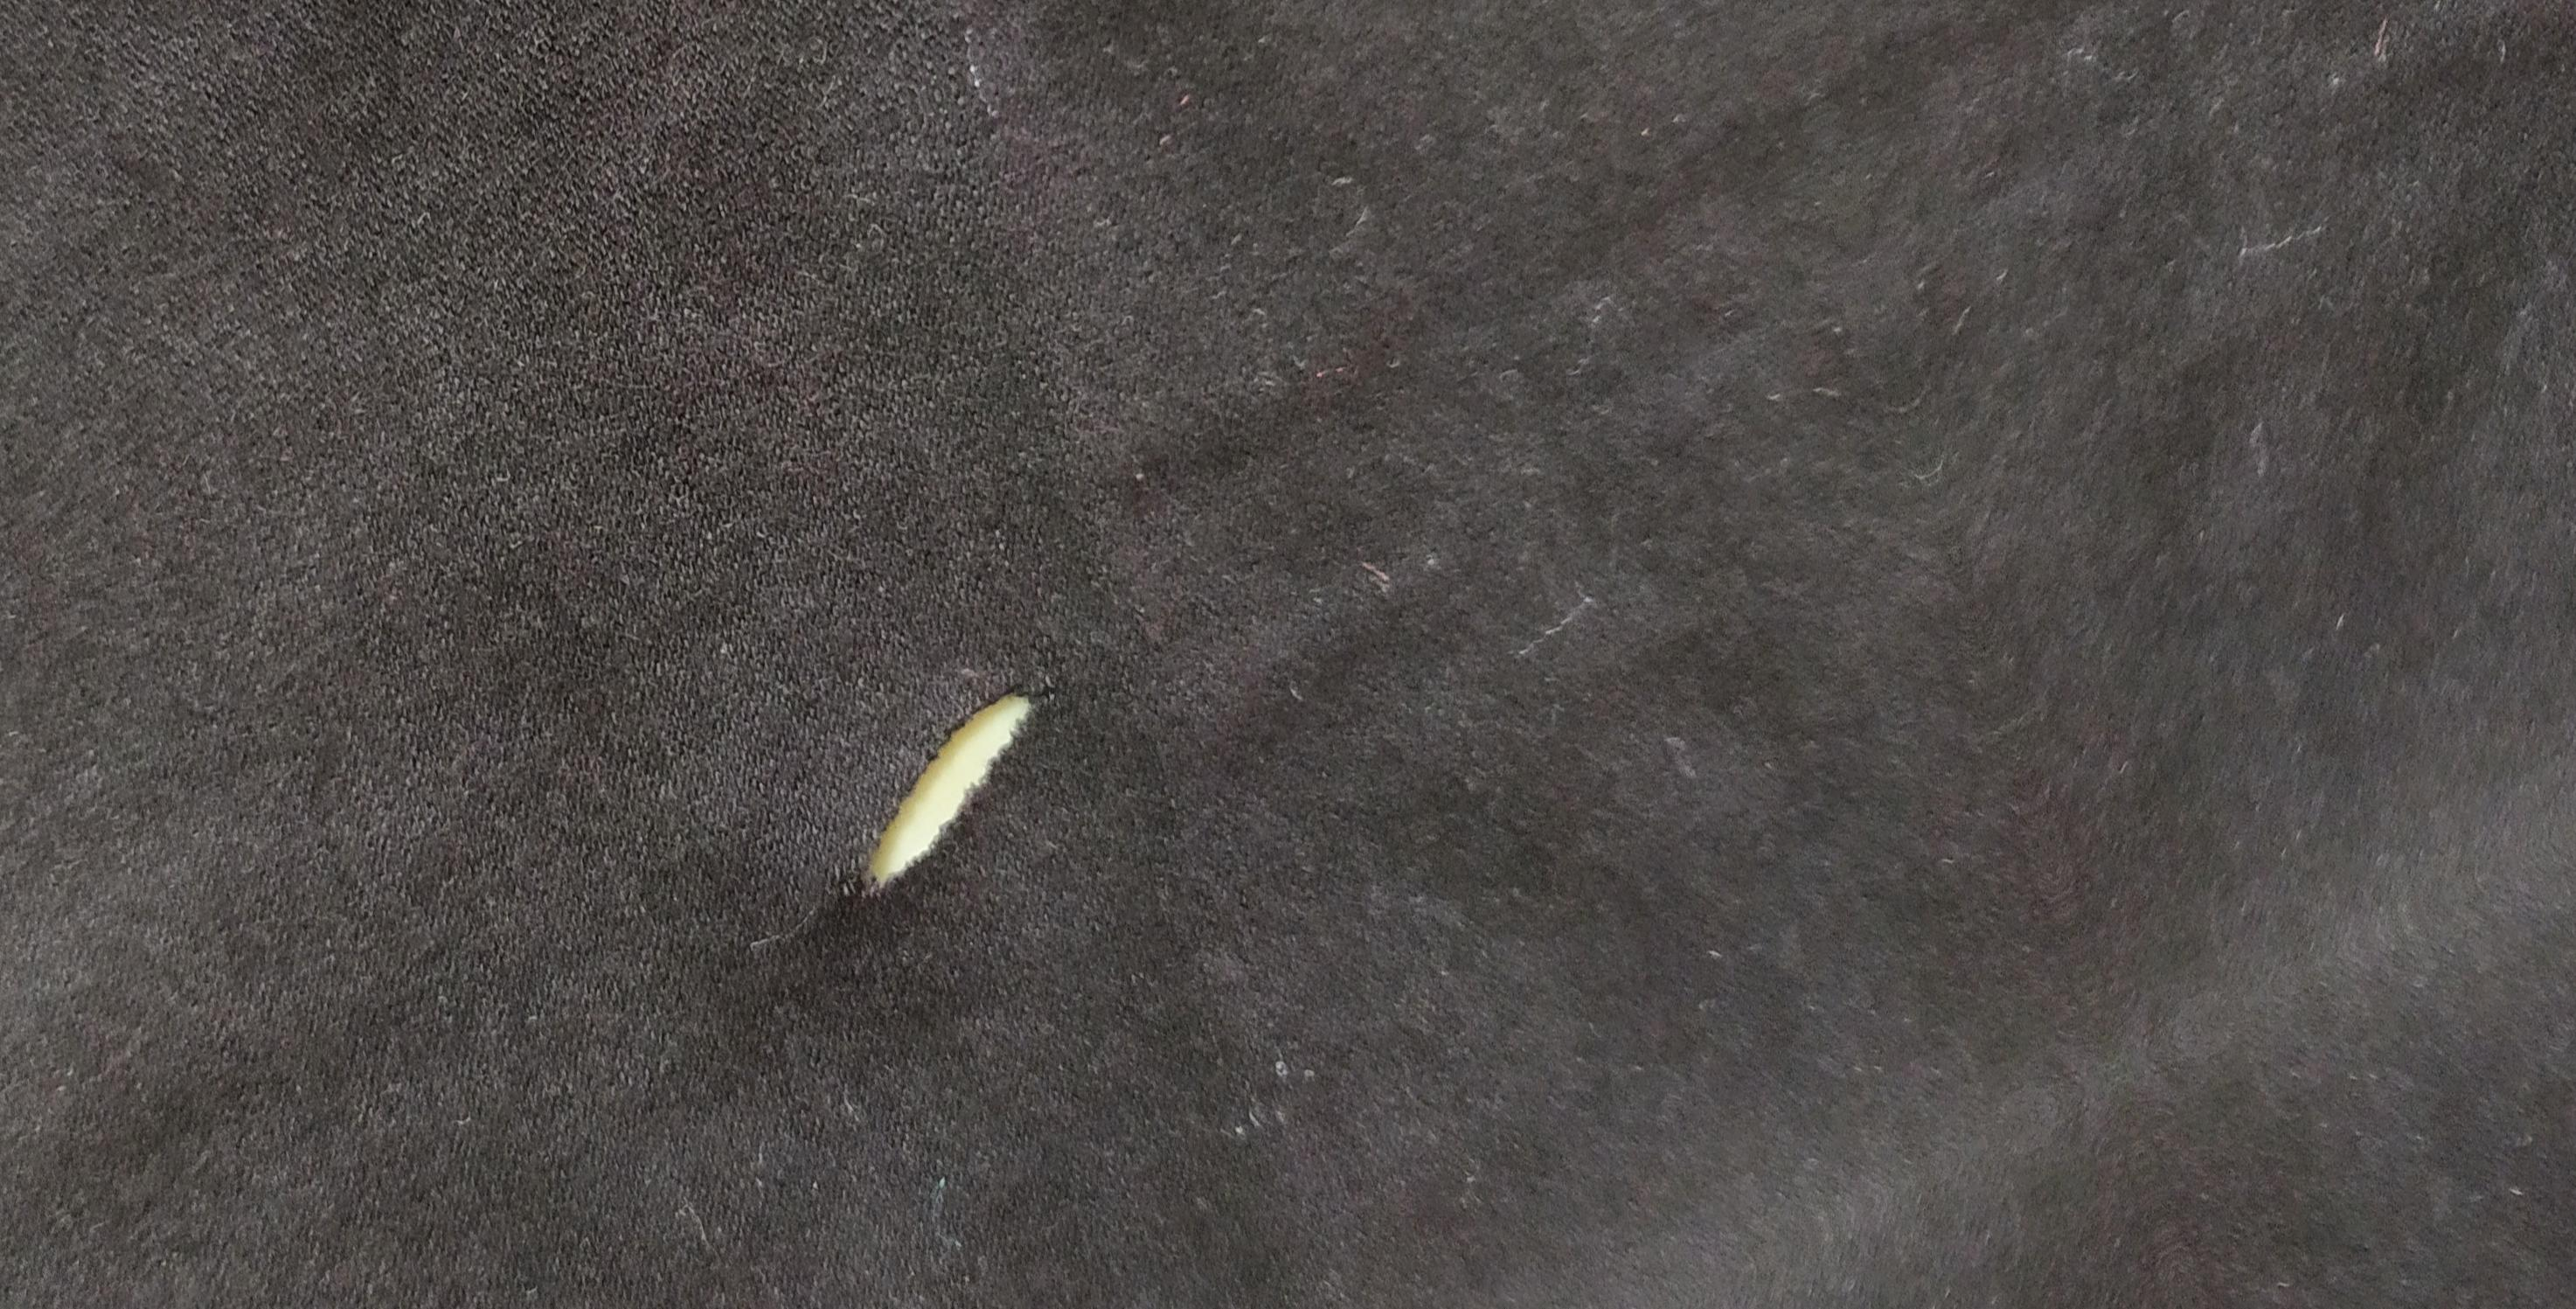hole: (841, 666, 1056, 923)
